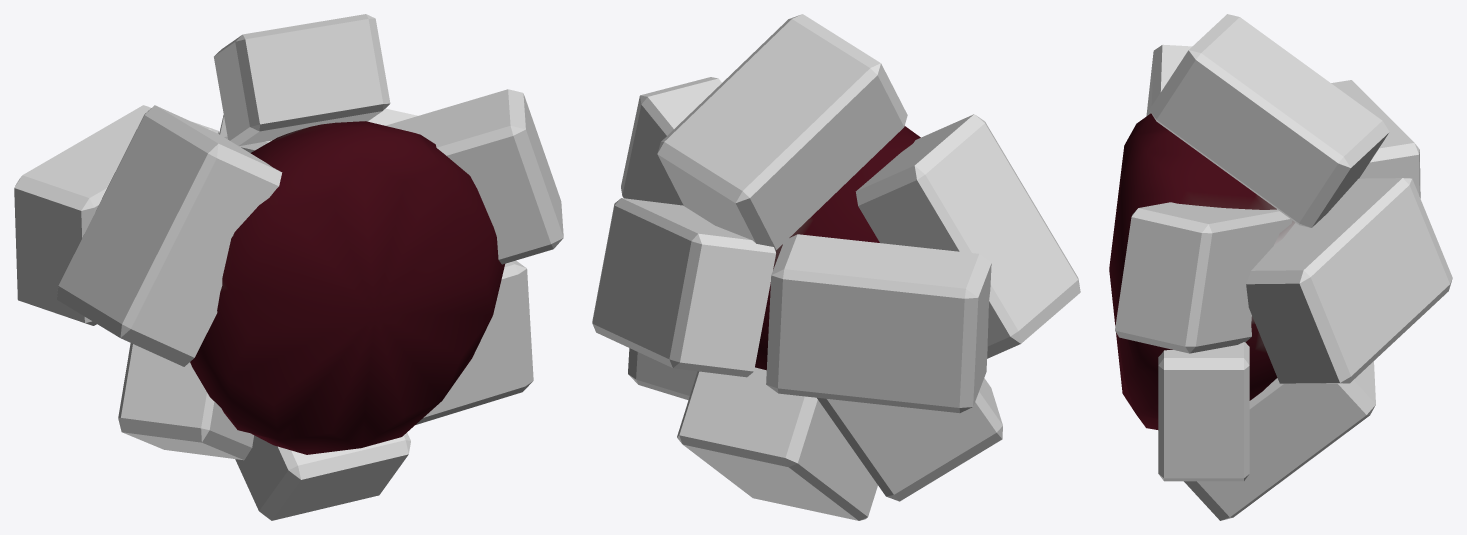
Rendered from Rubble2.fbx.
3 views of the same model, side by side, from view 1: azimuth 30°, elevation 25°; view 2: azimuth 150°, elevation 25°; view 3: azimuth 270°, elevation 25° (orthographic). The views are drawn at different scales.
Visible parts, largest first — view 1: Cube.013; view 2: Cube.013; view 3: Cube.013.
Part boxes in pixels (left/top/right/bottom): Cube.013: left=14, top=14, right=563, bottom=520; Cube.013: left=592, top=14, right=1080, bottom=520; Cube.013: left=1109, top=14, right=1452, bottom=520.
Bounding box in the file's own units: 1.12 × 1.15 × 0.7833.
